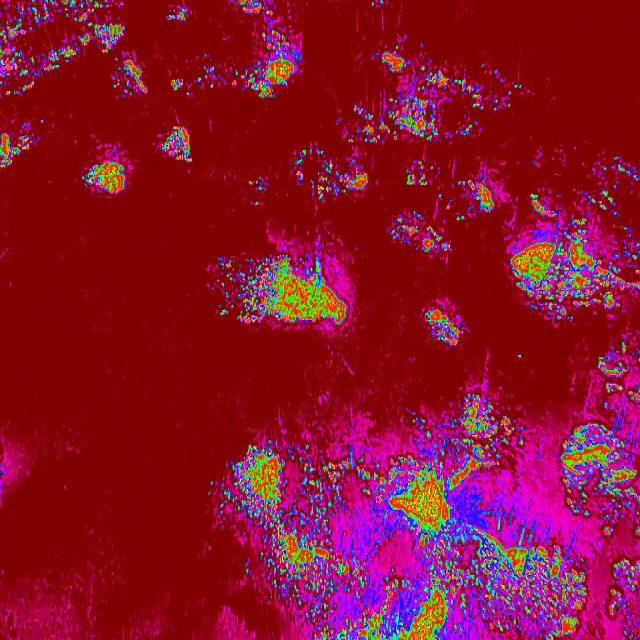fire: (206, 445, 640, 640), (505, 174, 640, 322), (358, 43, 526, 146), (0, 0, 150, 96), (216, 250, 356, 328), (227, 0, 310, 108), (566, 336, 640, 448), (408, 393, 538, 446), (284, 127, 367, 197), (407, 163, 508, 217), (388, 210, 462, 265), (82, 157, 136, 197), (418, 306, 467, 348), (159, 124, 194, 170)
